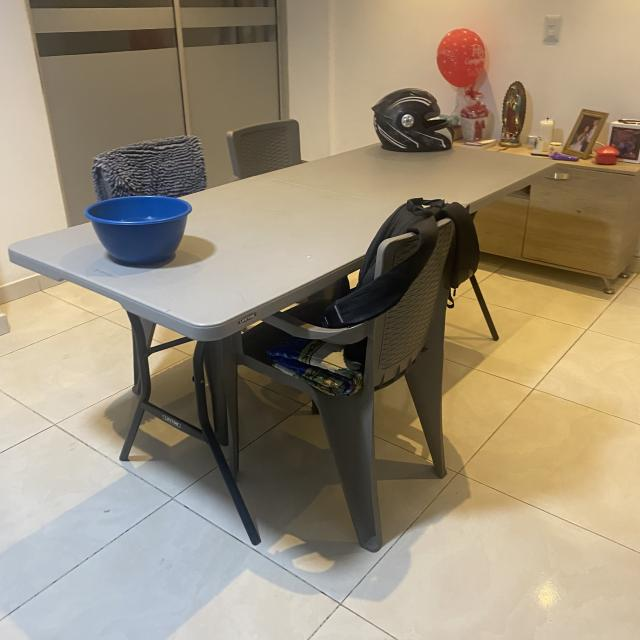obstacle: (2, 110, 557, 566)
